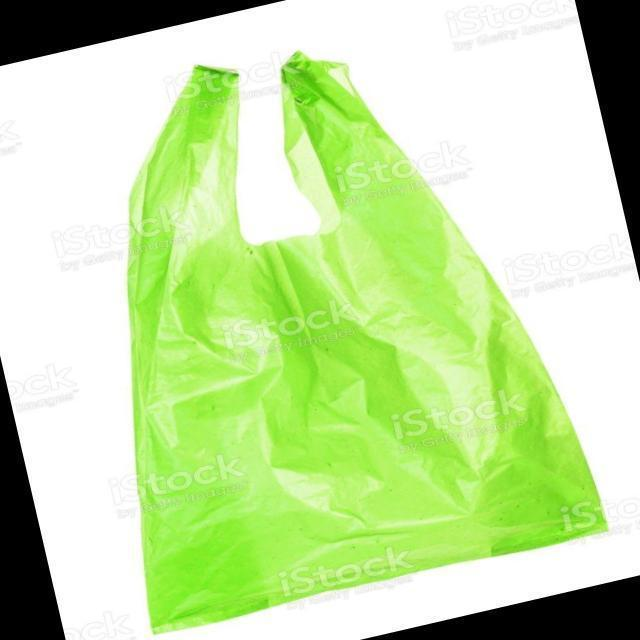Plastic_Bag: (44, 0, 613, 634)
